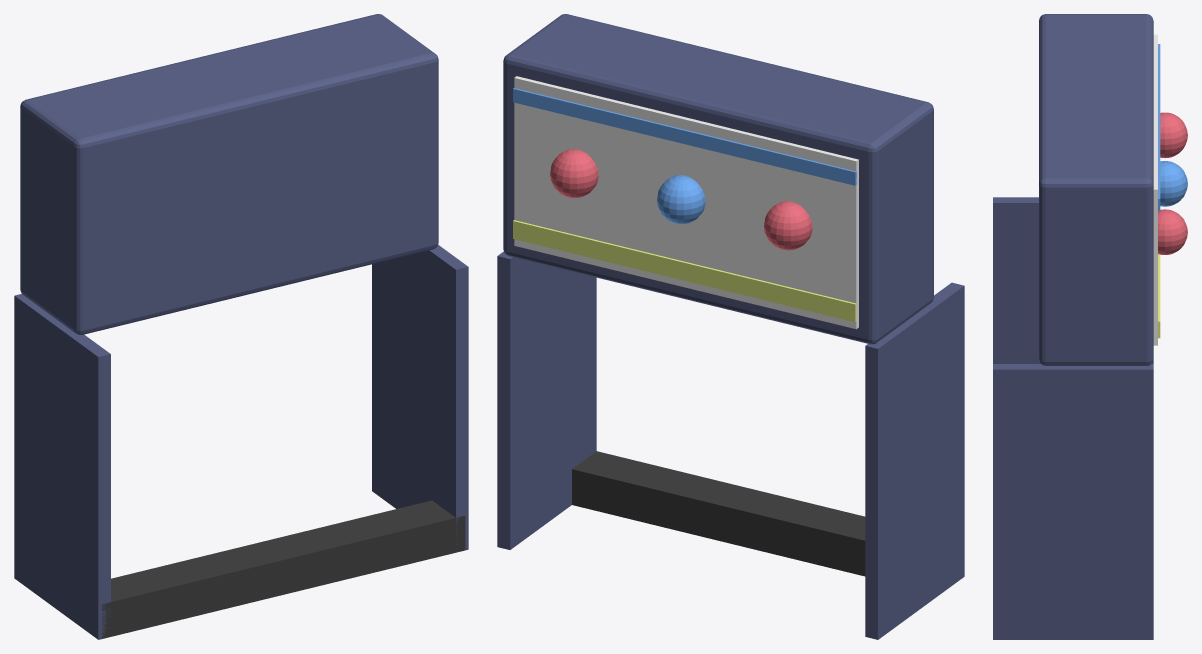
The model's file is pinset.glb.
The picture shows the model from 3 angles, left to right: view 1: azimuth 30°, elevation 25°; view 2: azimuth 150°, elevation 25°; view 3: azimuth 270°, elevation 25°; orthographic projection. The views are drawn at different scales.
Visible parts, largest first — view 1: Cube, Cube.006; view 2: Cube, Cube.001, Cube.006, Cube.003, Cube.002, Sphere; view 3: Cube, Sphere, Cube.001, Cube.003.
Boxes of the visible parts, x1=… form: Cube: x1=14, y1=14, x2=468, y2=639; Cube.006: x1=101, y1=500, x2=465, y2=638; Cube: x1=497, y1=14, x2=964, y2=639; Cube.001: x1=514, y1=76, x2=858, y2=329; Cube.006: x1=572, y1=451, x2=865, y2=576; Cube.003: x1=513, y1=88, x2=857, y2=223; Cube.002: x1=513, y1=220, x2=856, y2=322; Sphere: x1=550, y1=149, x2=812, y2=250; Cube: x1=993, y1=14, x2=1153, y2=639; Sphere: x1=1158, y1=112, x2=1187, y2=254; Cube.001: x1=1153, y1=34, x2=1157, y2=345; Cube.003: x1=1158, y1=44, x2=1187, y2=211.
Bounding box in the file's own units: 1.78 × 2.2 × 0.85.
